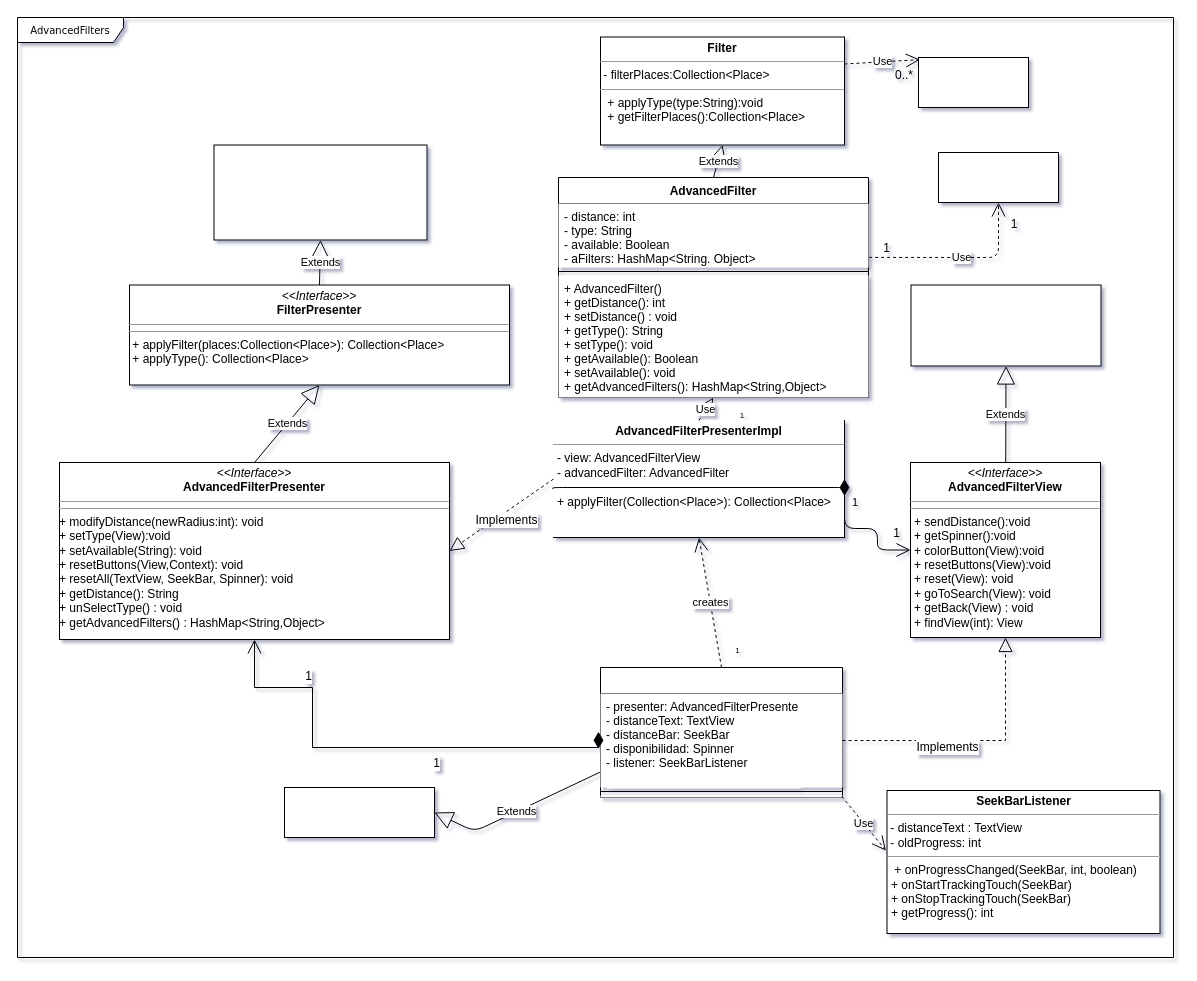
Image size: 1197x981. Some labels were removed from this diagram. Here are the shapes that lost their labels. From the top down, the box of each, then its label:
(918, 56, 1028, 108): Place
(213, 144, 427, 240): <<Interface>> BasePresenter + setView(view: BaseView):void
(938, 152, 1058, 202): DatabaseInteractor
(910, 284, 1101, 366): <<Interface>> BaseView + displayView(): bool
(600, 666, 842, 798): AdvancedFilterActivity
(284, 786, 434, 838): <<Interface>> BaseActivity
